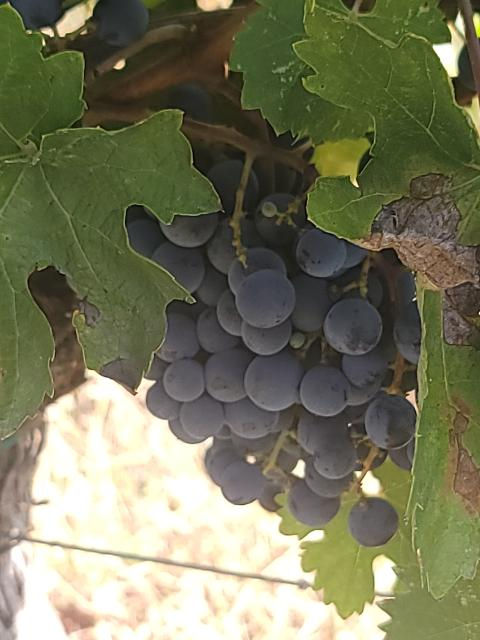grapes: (140, 160, 308, 508), (289, 229, 420, 528)
